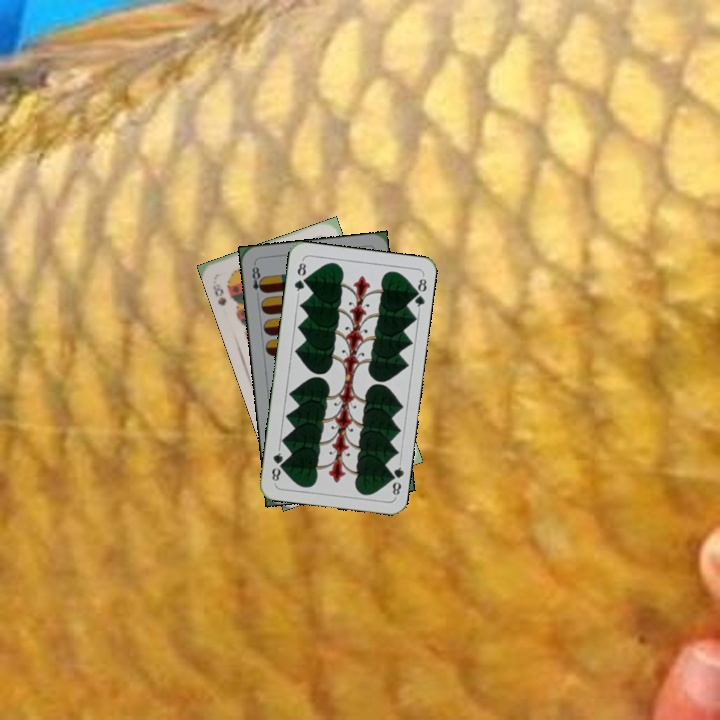E8: (248, 260, 267, 295)
G8: (385, 459, 406, 498), (290, 256, 309, 297)
S8: (209, 280, 229, 309)
